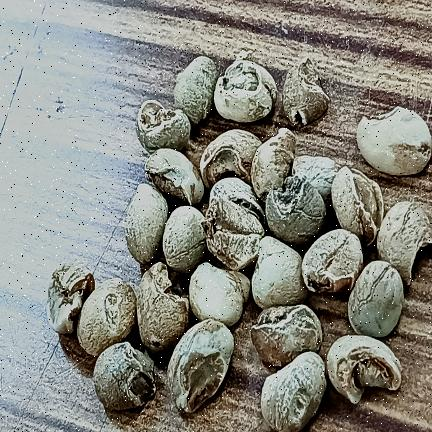cut: (168, 318, 234, 413), (357, 106, 432, 176), (261, 352, 326, 432), (327, 335, 401, 404), (137, 262, 189, 353), (77, 278, 137, 356), (377, 201, 432, 285), (202, 198, 265, 270), (251, 304, 322, 367), (348, 261, 404, 338), (93, 342, 156, 410), (331, 167, 384, 246), (266, 176, 326, 245), (214, 57, 277, 122), (252, 236, 308, 309), (189, 262, 251, 326), (302, 229, 363, 294), (200, 130, 261, 190), (47, 262, 95, 334), (126, 184, 168, 264), (282, 57, 330, 126), (145, 149, 204, 205), (251, 128, 295, 202), (174, 56, 217, 125), (163, 206, 207, 273), (136, 100, 190, 154), (210, 177, 265, 225), (292, 155, 341, 207)
